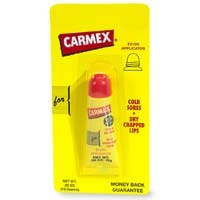grozi_47: (50, 3, 150, 194)
